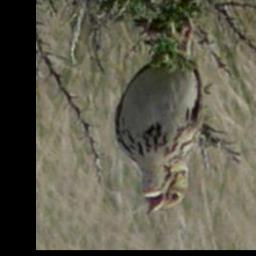Sparrow: (112, 16, 209, 218)
